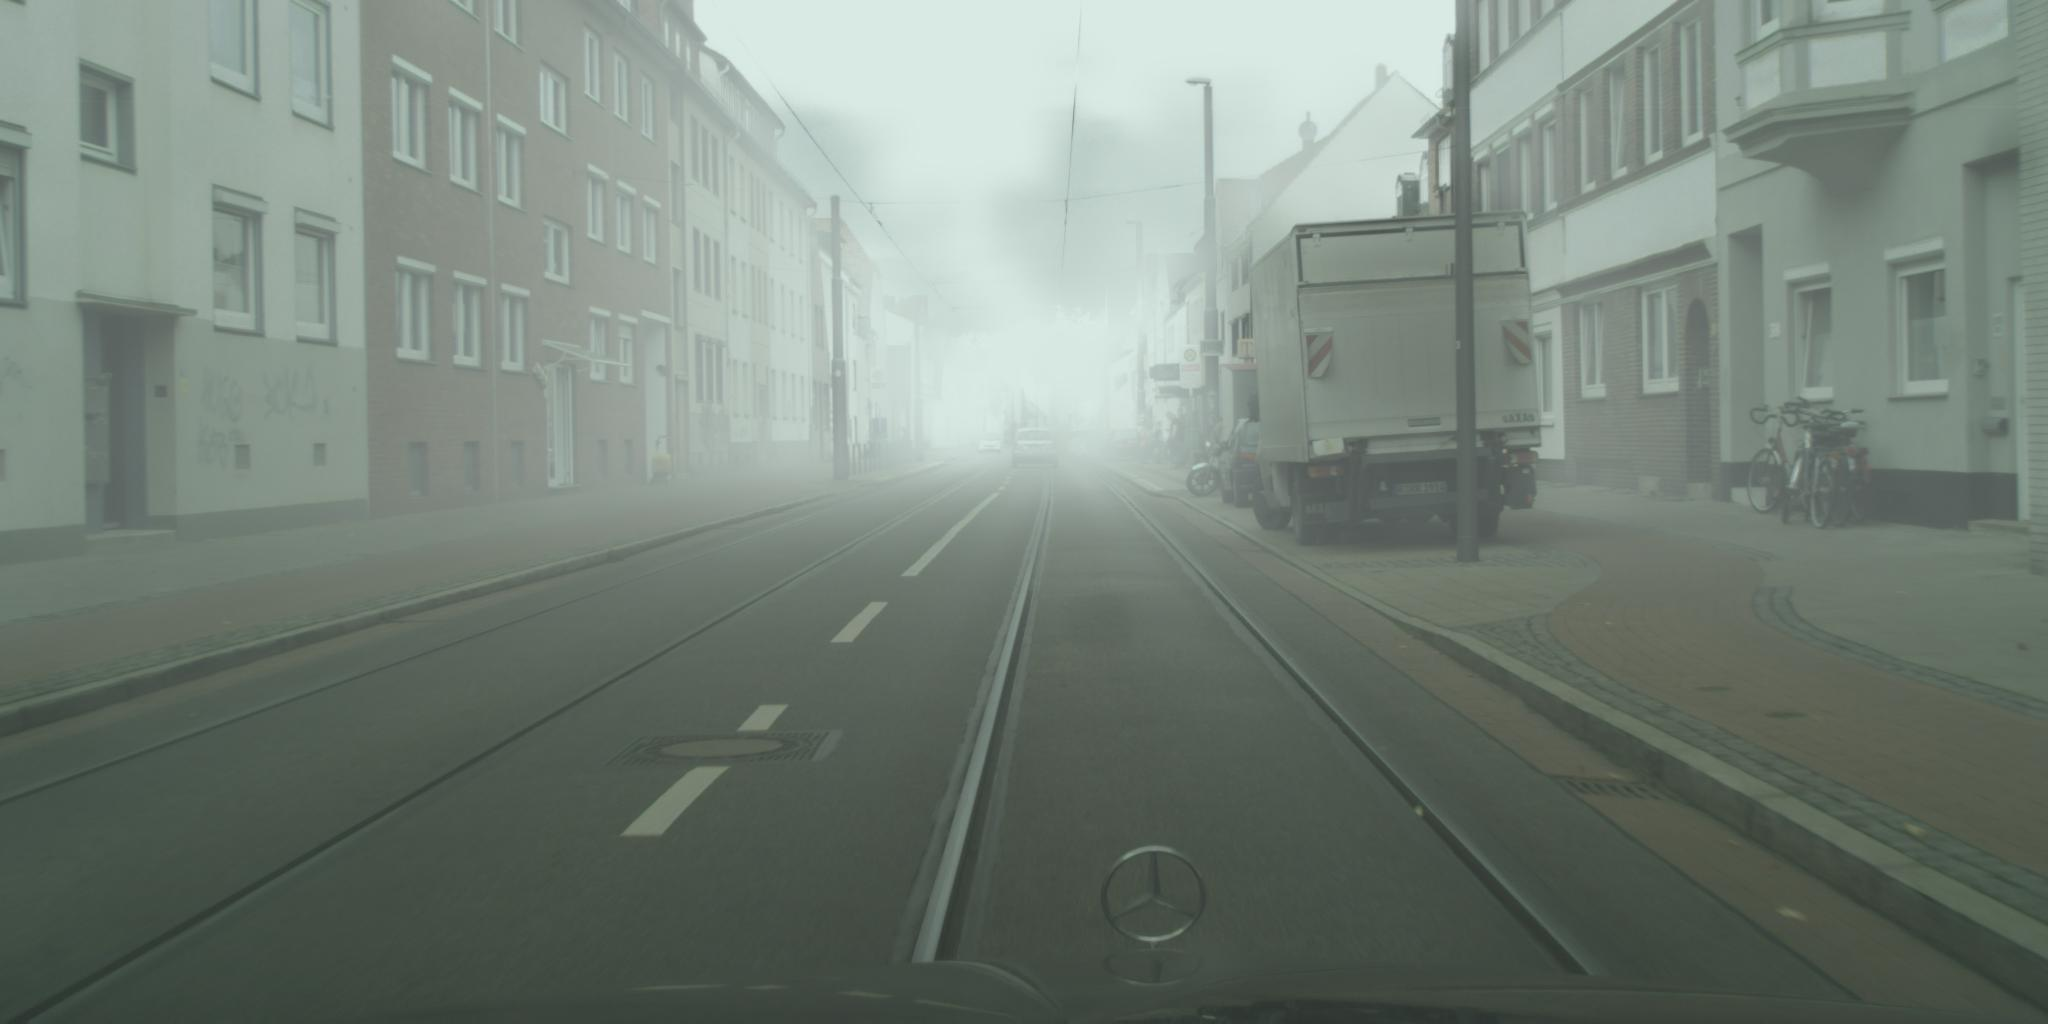car: (1215, 418, 1270, 509), (1012, 427, 1062, 472), (980, 434, 1004, 456)
motorcycle: (1186, 422, 1245, 500), (1502, 438, 1541, 512)
truck: (1249, 212, 1543, 546)
